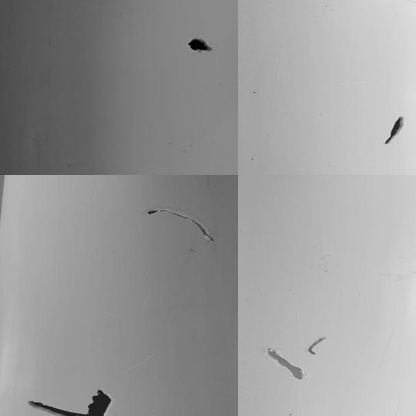fengxi: (146, 203, 214, 245), (25, 391, 76, 415), (309, 332, 325, 357)
kongdong: (264, 346, 303, 381), (84, 385, 111, 416), (385, 115, 403, 149), (185, 35, 210, 54)
